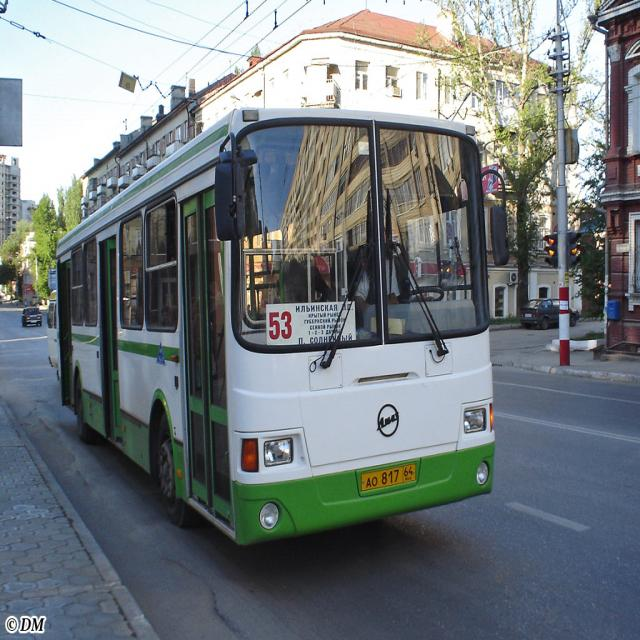number-of-bus: (269, 312, 295, 340)
